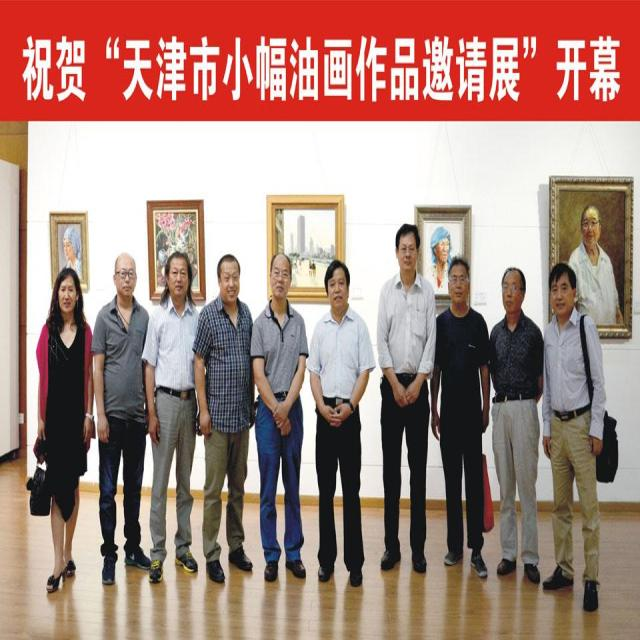non-fight: (542, 262, 617, 610), (308, 254, 379, 590), (431, 255, 499, 578), (31, 260, 96, 593), (378, 220, 438, 575), (93, 251, 155, 590), (485, 264, 545, 586), (152, 250, 205, 584), (202, 251, 254, 586), (253, 263, 309, 562)
